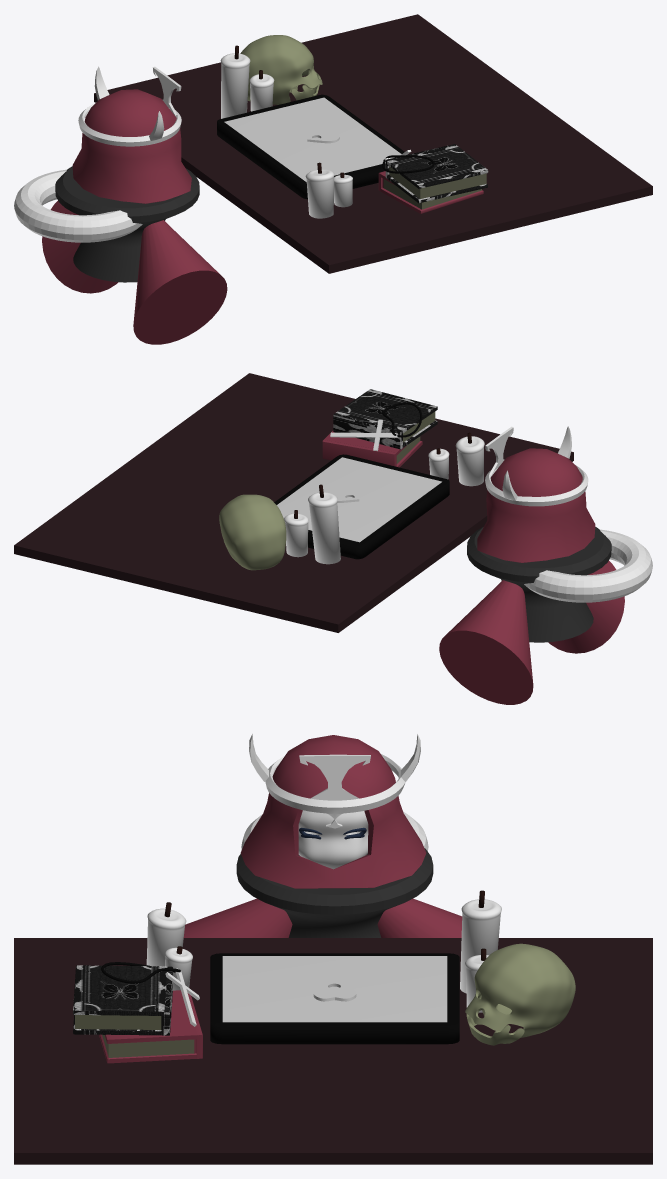
Rendered from уиджи с анимкааа .fbx.
3 views of the same model, one above another, from view 1: azimuth 30°, elevation 25°; view 2: azimuth 150°, elevation 25°; view 3: azimuth 270°, elevation 25° (orthographic). The views are drawn at different scales.
Parts seen in each view (by area): view 1: Cube, Cube.001, Cylinder.001, Cube.010, Cylinder, Torus, Cube.004, Cube.006, Cylinder.002, Torus.001, Cylinder.004, Cube.003 (+3 smaller); view 2: Cube, Cylinder.001, Cube.010, Cube.001, Cylinder, Torus, Cube.006, Cube.004, Cylinder.002, Cube.003, Torus.001, Cylinder.004 (+4 smaller); view 3: Cube, Cube.001, Cube.010, Cube.006, Cylinder, Cube.004, Cylinder.001, Torus.001, Cube.003, Cube.002, Cylinder.002, Cylinder.004 (+4 smaller).
Part boxes in pixels (x1=…): Cube: x1=94, y1=14, x2=652, y2=273; Cube.001: x1=217, y1=94, x2=404, y2=199; Cylinder.001: x1=42, y1=201, x2=227, y2=344; Cube.010: x1=72, y1=89, x2=191, y2=203; Cylinder: x1=55, y1=166, x2=199, y2=282; Torus: x1=14, y1=169, x2=142, y2=242; Cube.004: x1=385, y1=144, x2=488, y2=203; Cube.006: x1=240, y1=35, x2=322, y2=104; Cylinder.002: x1=220, y1=53, x2=250, y2=118; Torus.001: x1=78, y1=66, x2=181, y2=146; Cylinder.004: x1=305, y1=169, x2=334, y2=218; Cube.003: x1=378, y1=171, x2=483, y2=213; Cube: x1=14, y1=373, x2=573, y2=632; Cylinder.001: x1=439, y1=561, x2=624, y2=704; Cube.010: x1=477, y1=448, x2=595, y2=562; Cube.001: x1=274, y1=454, x2=449, y2=559; Cylinder: x1=467, y1=526, x2=611, y2=642; Torus: x1=524, y1=529, x2=652, y2=602; Cube.006: x1=219, y1=494, x2=286, y2=570; Cube.004: x1=333, y1=389, x2=437, y2=449; Cylinder.002: x1=308, y1=492, x2=340, y2=564; Cube.003: x1=322, y1=430, x2=422, y2=467; Torus.001: x1=485, y1=426, x2=588, y2=506; Cylinder.004: x1=455, y1=436, x2=484, y2=486; Cube: x1=14, y1=938, x2=652, y2=1164; Cube.001: x1=210, y1=953, x2=459, y2=1044; Cube.010: x1=240, y1=735, x2=426, y2=888; Cube.006: x1=465, y1=943, x2=575, y2=1037; Cylinder: x1=236, y1=848, x2=433, y2=937; Cube.004: x1=73, y1=965, x2=172, y2=1035; Cylinder.001: x1=183, y1=898, x2=462, y2=937; Torus.001: x1=265, y1=754, x2=405, y2=828; Cube.003: x1=99, y1=990, x2=202, y2=1063; Cube.002: x1=298, y1=810, x2=368, y2=869; Cylinder.002: x1=460, y1=899, x2=501, y2=993; Cylinder.004: x1=146, y1=908, x2=186, y2=966.
Bounding box in the file's own units: 925 × 403 × 736.
